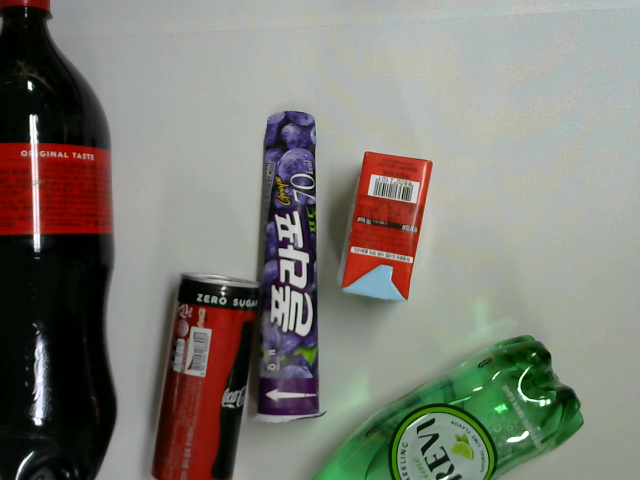Coca_Cola_1.5L: (1, 1, 119, 480)
Coca_Cola_Zero_Can_250ml: (149, 272, 262, 479)
Picnic_Apple: (339, 148, 434, 306)
Polapo_Grape: (251, 103, 332, 428)
Treviraim_500ml: (308, 333, 589, 480)
